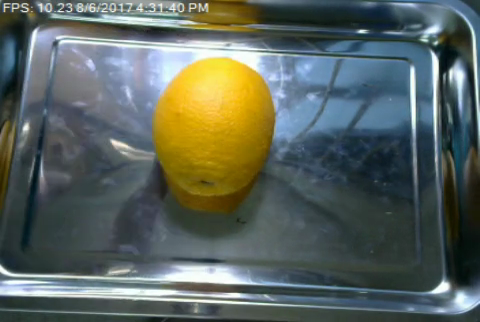Orange: (149, 58, 274, 198)
